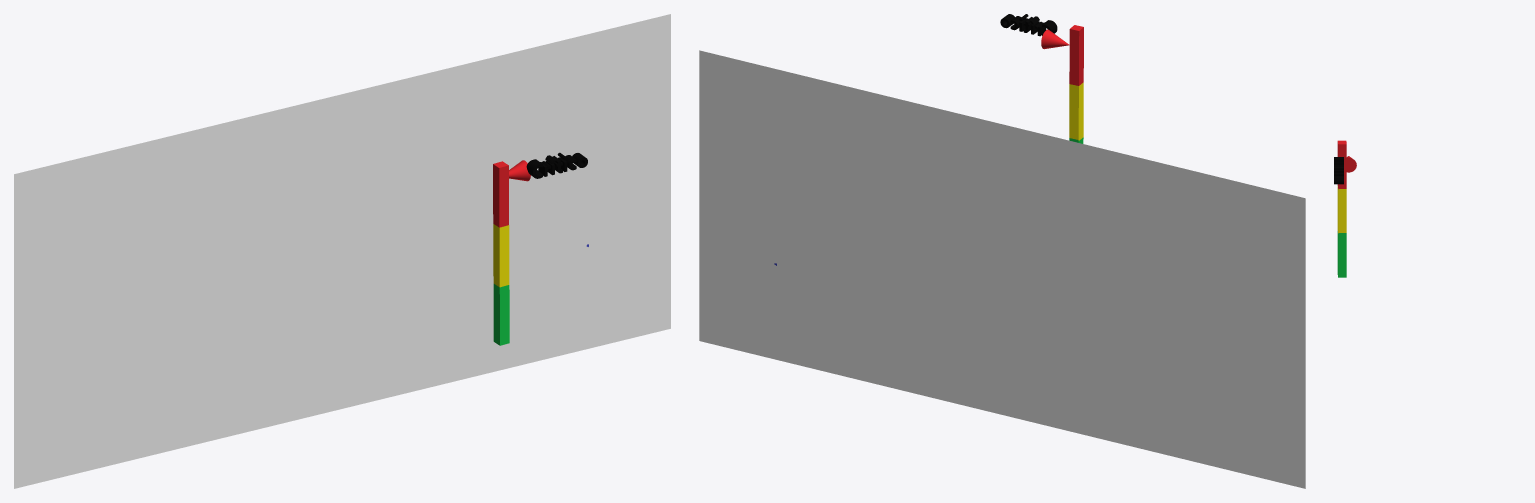
Rendered from gabc.glb.
The picture shows the model from 3 angles, left to right: view 1: azimuth 30°, elevation 25°; view 2: azimuth 150°, elevation 25°; view 3: azimuth 270°, elevation 25°; orthographic projection. The views are drawn at different scales.
Visible parts, largest first — view 1: mesh_id1, mesh_id222, mesh_id224, mesh_id223, mesh_id417; view 2: mesh_id1, mesh_id224, mesh_id222, mesh_id417; view 3: mesh_id223, mesh_id222, mesh_id417, mesh_id224.
Part boxes in pixels (box(x1,y1,x2,y2)): mesh_id1: box(14, 14, 670, 488); mesh_id222: box(493, 224, 509, 287); mesh_id224: box(493, 161, 508, 227); mesh_id223: box(493, 284, 509, 345); mesh_id417: box(526, 152, 587, 178); mesh_id1: box(699, 50, 1305, 488); mesh_id224: box(1069, 25, 1083, 85); mesh_id222: box(1069, 82, 1083, 140); mesh_id417: box(1000, 14, 1057, 36); mesh_id223: box(1337, 231, 1346, 277); mesh_id222: box(1337, 186, 1346, 233); mesh_id417: box(1334, 157, 1343, 184); mesh_id224: box(1337, 140, 1346, 189).
Size of the model in its own units: 1.28 by 0.6018 by 0.4232.
Materials: 6 (6 with a texture image).
